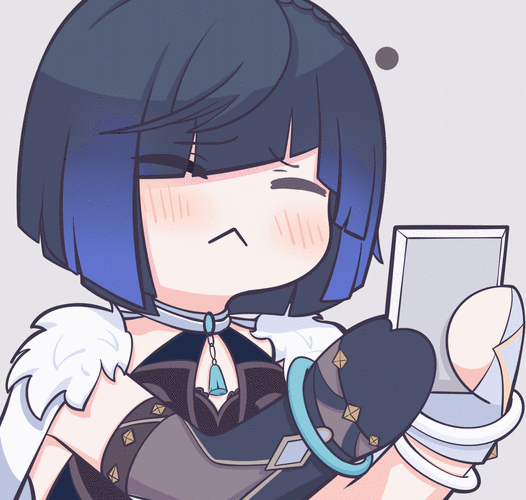夜兰: (1, 2, 526, 500)
